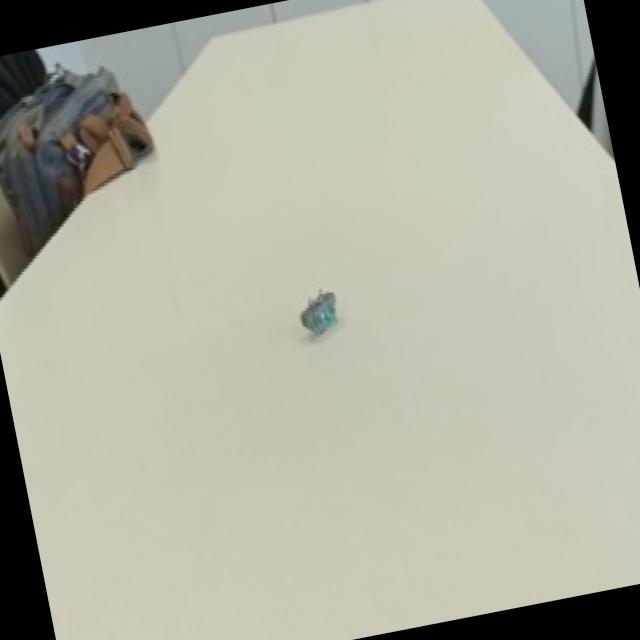5_NanoBug_GrisClaro: (281, 258, 355, 363)
